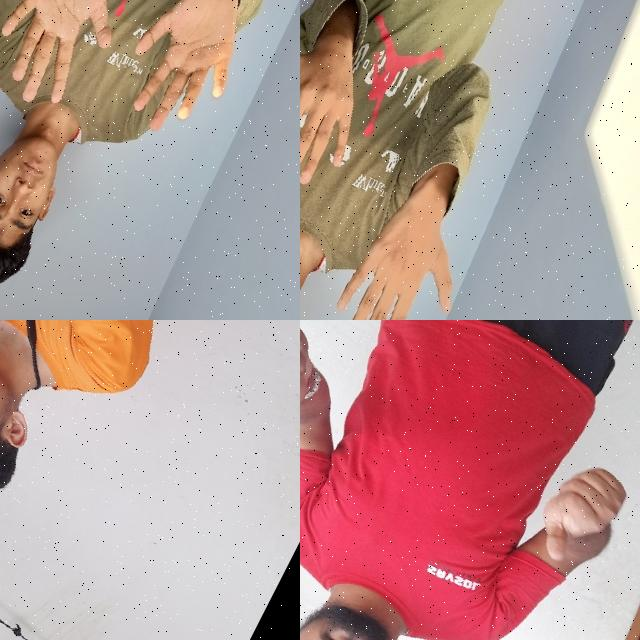Fist Mouth: (0, 320, 84, 525)
Moutza: (302, 176, 492, 320), (102, 0, 275, 156), (0, 0, 156, 136), (300, 17, 394, 209)
Thumbs Up: (514, 445, 640, 586), (300, 320, 346, 453)
